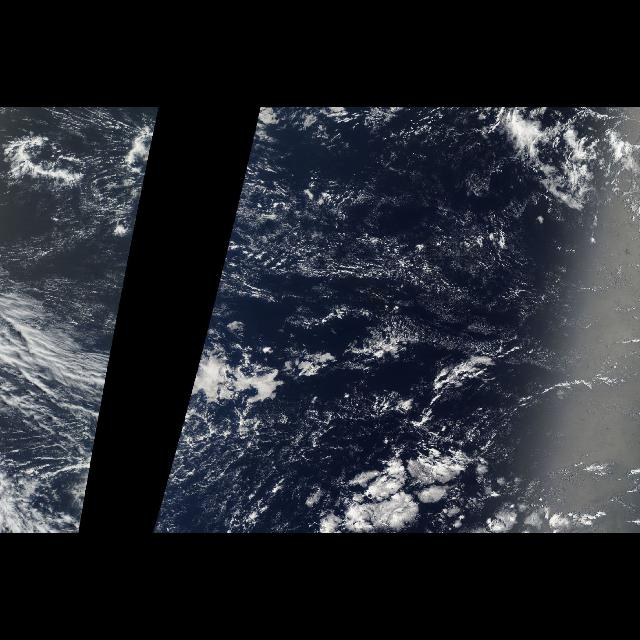Gravel: (264, 173, 456, 329), (156, 398, 328, 534)
Sugar: (214, 168, 562, 364)
